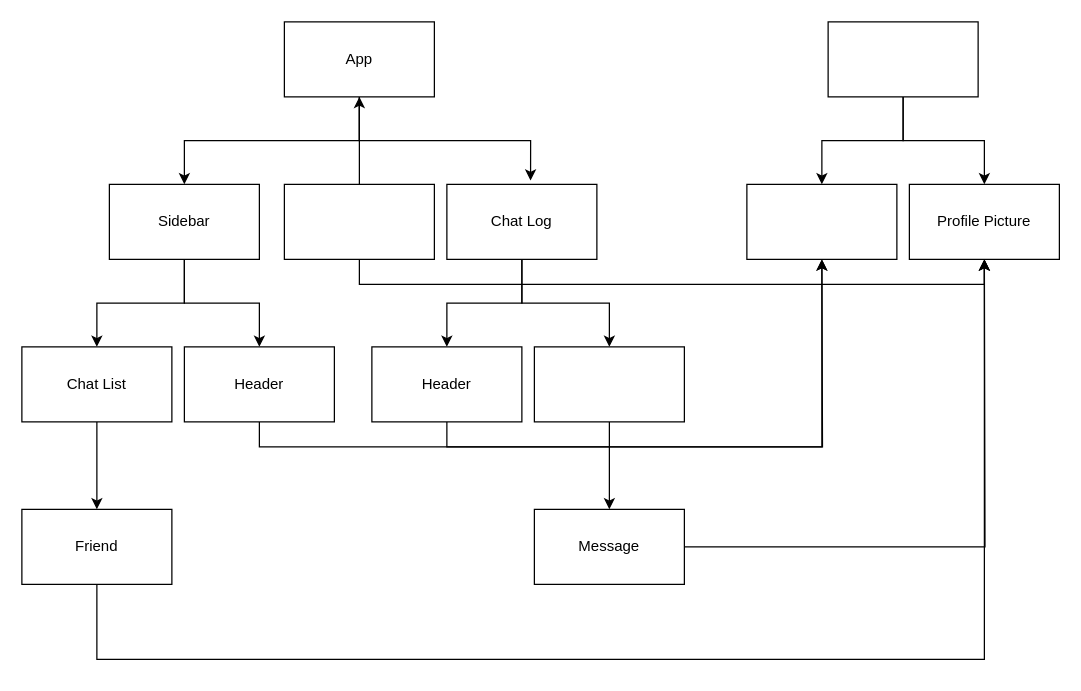
Some shapes in this 1081 by 691 pixel diagram are drawn without their labels. Each missing label, with the centre of its shape:
"Account Menu" belongs at (358,221).
"Message List" belongs at (608,384).
"Search" belongs at (821,221).
"Shared" belongs at (902,59).
